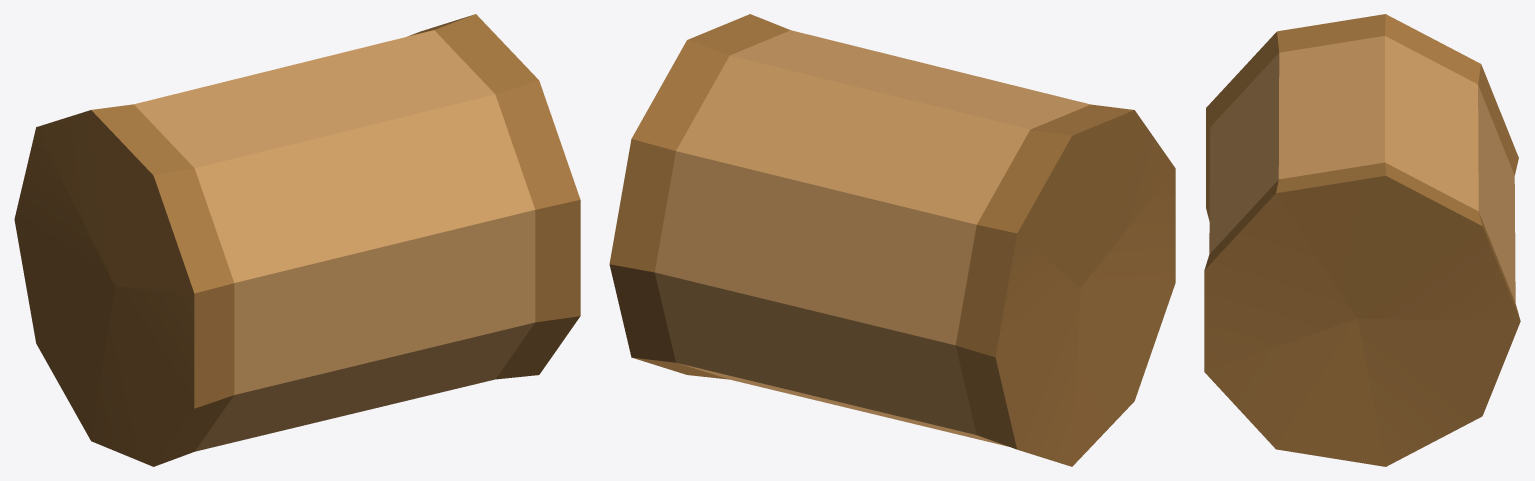
File: farm_haystack.fbx
3 views of the same model, side by side, from view 1: azimuth 30°, elevation 25°; view 2: azimuth 150°, elevation 25°; view 3: azimuth 270°, elevation 25° (orthographic). The views are drawn at different scales.
Parts seen in each view (by area): view 1: farm_haystack; view 2: farm_haystack; view 3: farm_haystack.
Part boxes in pixels (x1,y1,x2,y2): farm_haystack: (14,14,580,466); farm_haystack: (609,14,1175,466); farm_haystack: (1204,14,1520,466).
Size of the model in its own units: 200 by 166 by 164.
